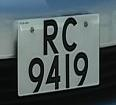1: (62, 52, 75, 90)
4: (45, 54, 63, 91)
9: (25, 54, 48, 95), (71, 51, 91, 88)
C: (57, 14, 82, 55)
R: (40, 15, 61, 59)
